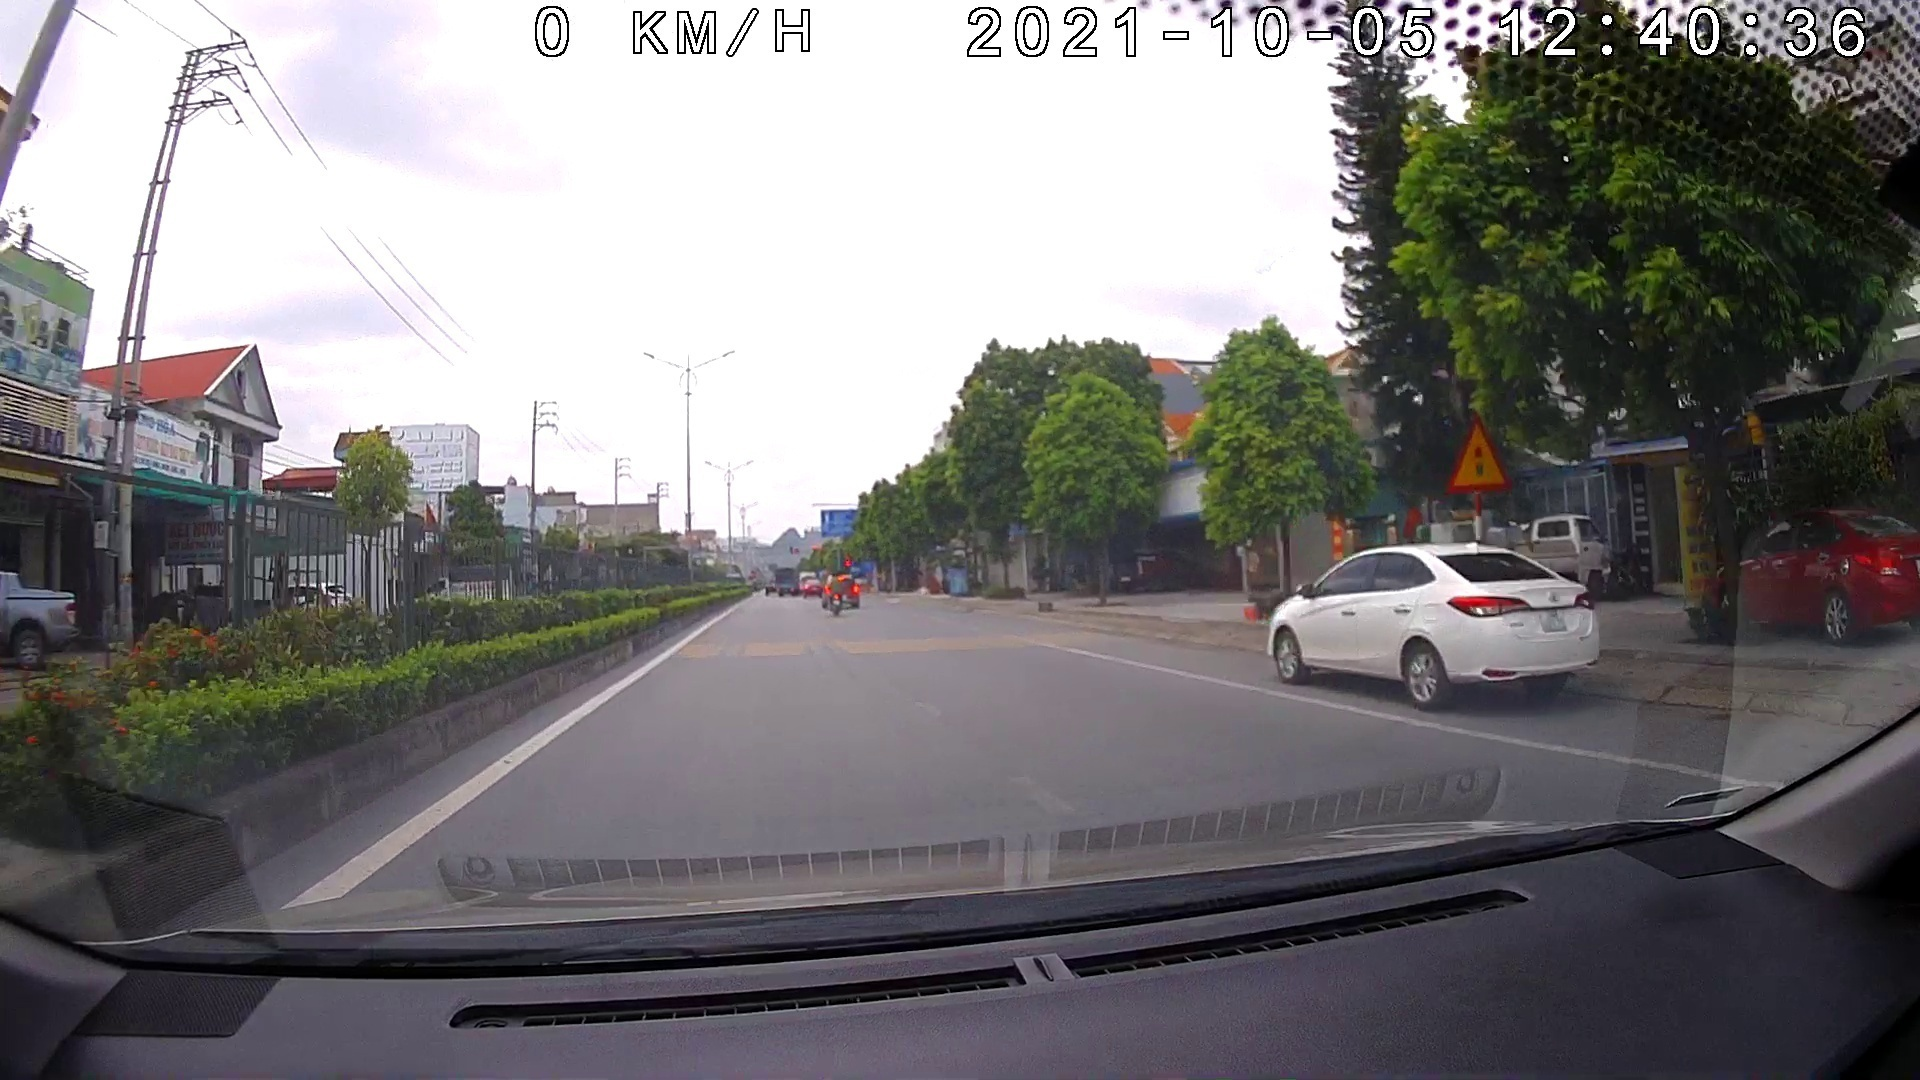Bien khac: (1447, 410, 1515, 495)
